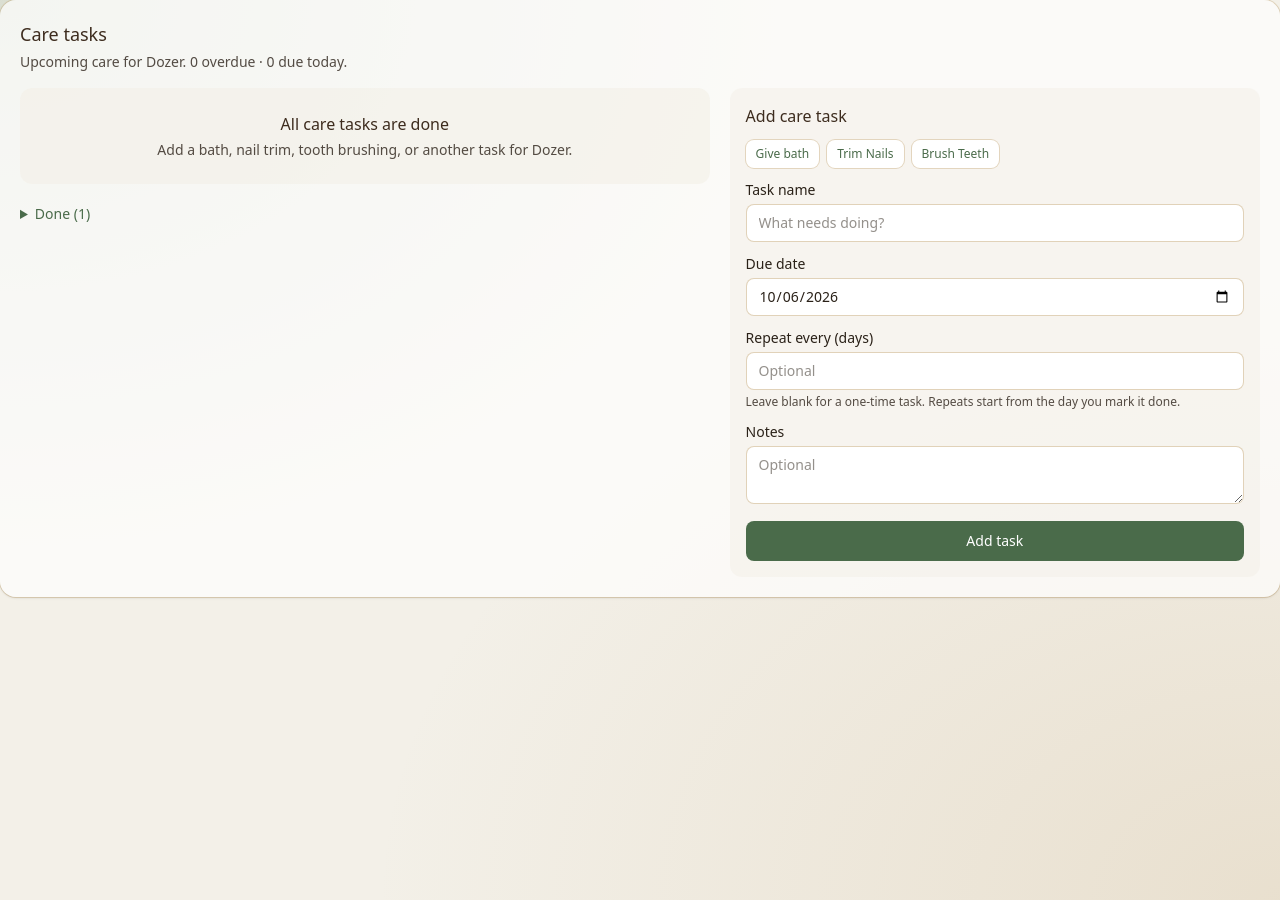
Test: CareTasksPanel › keeps finished one-time tasks collapsed and allows reopening
The width and height of the screenshot is (1280, 900).
Click the heading "Done (1)" at (62,214), box [35, 204, 90, 223]
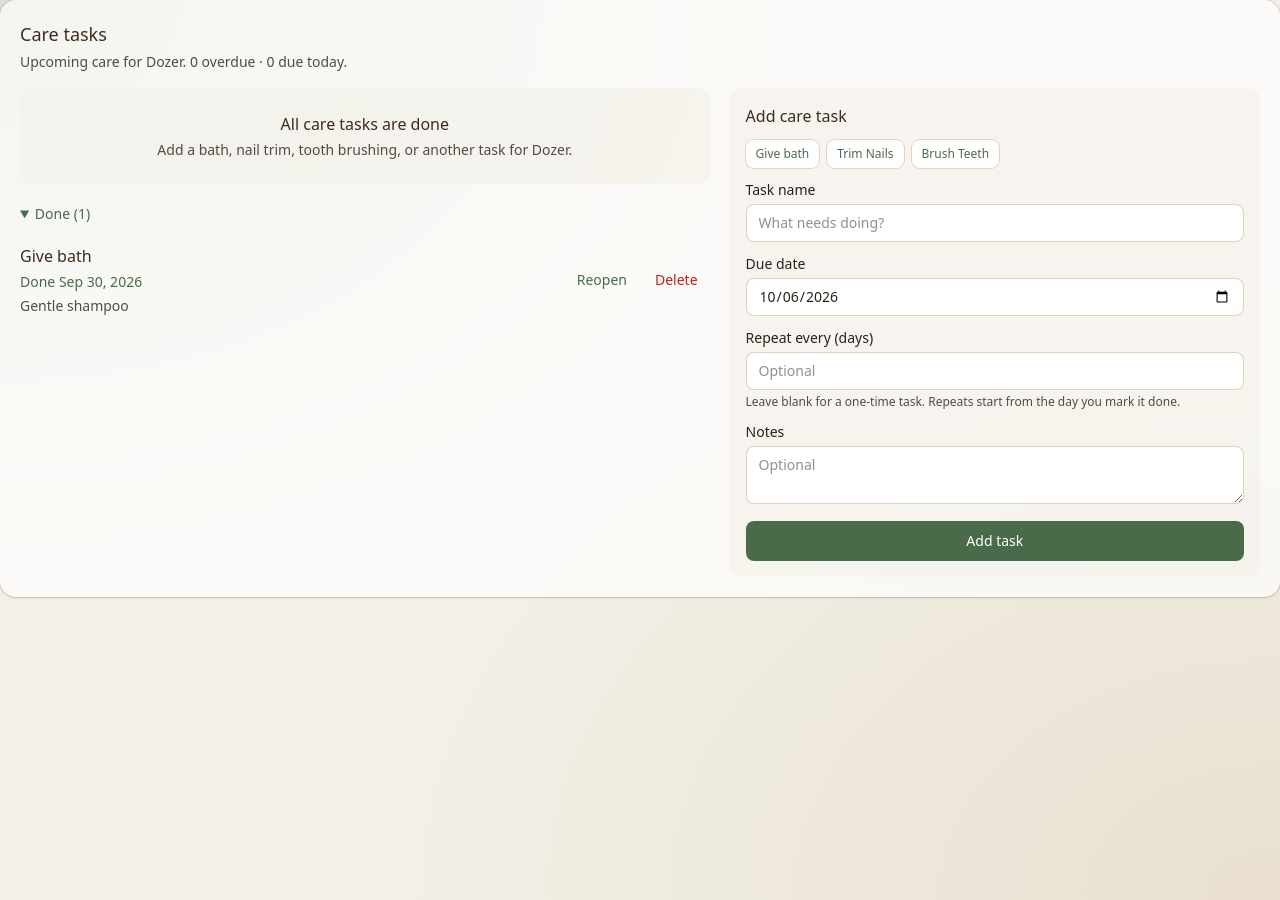
Click the button with aria-label "Reopen: Give bath" at (602,280), box [565, 264, 639, 296]
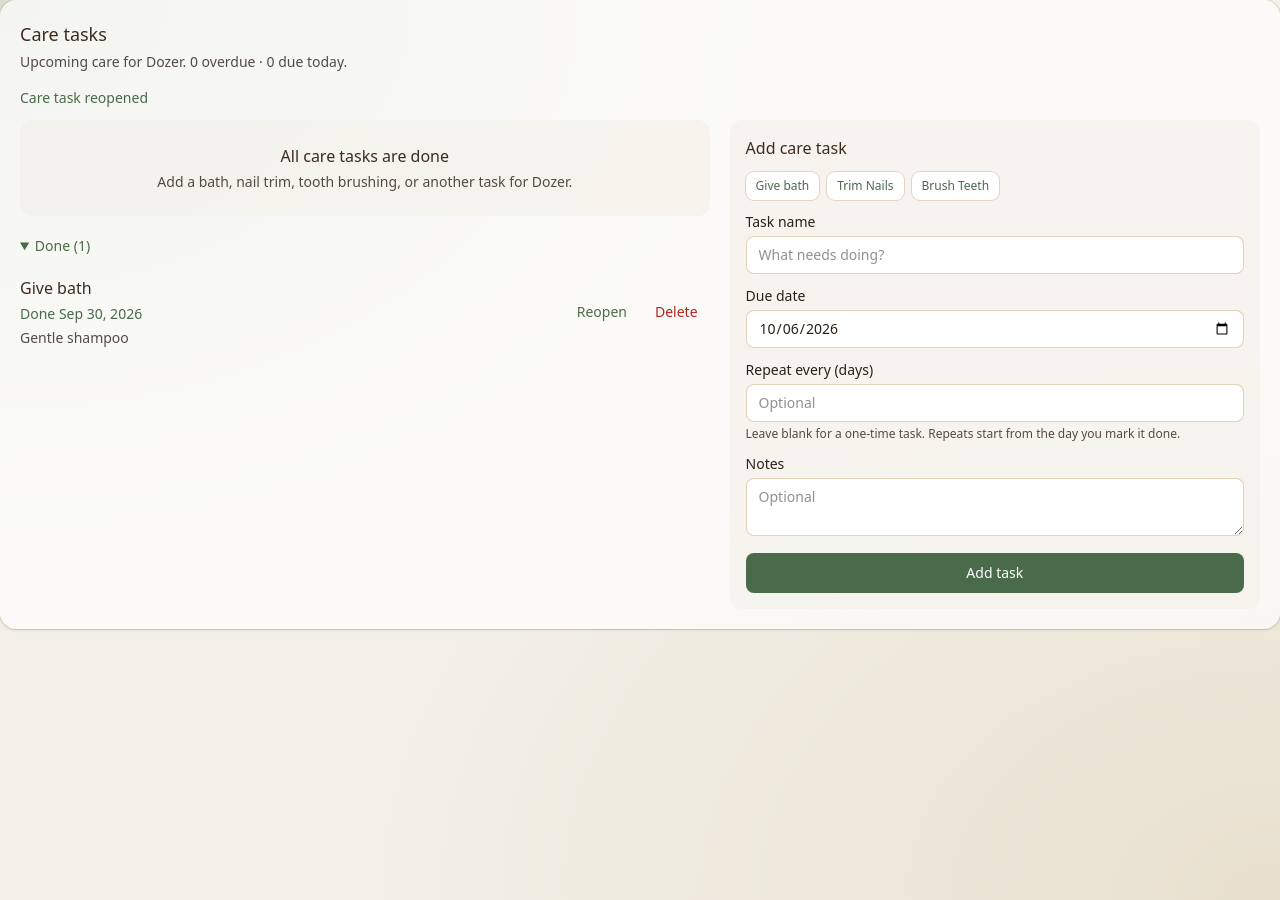
expect the message shows "reopened": met, box [20, 88, 148, 107]
